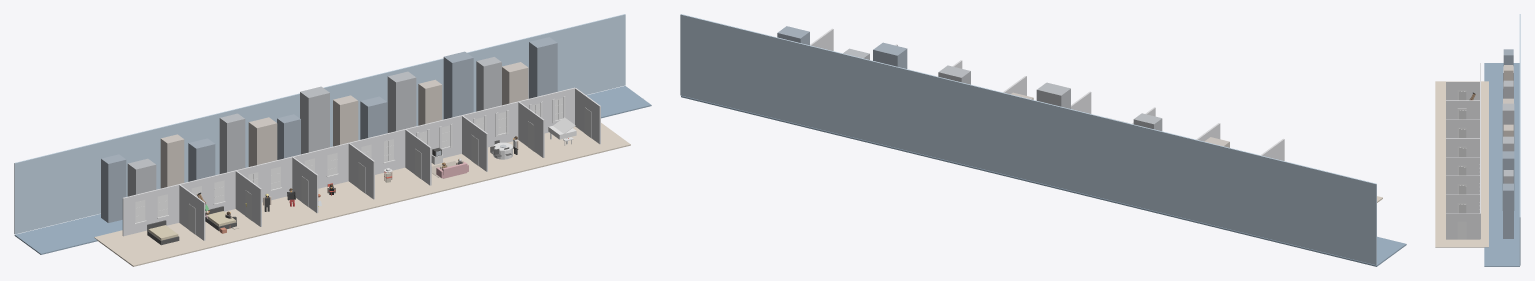
3 views of the same model, side by side, from view 1: azimuth 30°, elevation 25°; view 2: azimuth 150°, elevation 25°; view 3: azimuth 270°, elevation 25° (orthographic). The views are drawn at different scales.
Parts seen in each view (by area): view 1: Skyline_Sky, Apartment_Floor, Skyline_Water, Skyline_Tower_12, Skyline_Tower_7, Skyline_Tower_10, Skyline_Tower_15, Skyline_Tower_0, Skyline_Tower_4, Skyline_Tower_5, Skyline_Tower_13, Skyline_Tower_2 (+41 smaller); view 2: Skyline_Sky, Skyline_Water, Skyline_Tower_12, Skyline_Tower_7, Skyline_Tower_10, Skyline_Tower_15; view 3: Skyline_Water, Apartment_Floor, Skyline_Tower_15, Skyline_Sky, Partition_7_Back, Skyline_Tower_7, Skyline_Tower_12, Partition_7_Front, Partition_1_Back, Partition_5_Back, Partition_6_Back, Partition_2_Back (+34 smaller).
Boxes of the visible parts, x1,y1,x2,y2 form: Skyline_Sky: (14,14,625,234); Apartment_Floor: (94,123,630,266); Skyline_Water: (14,86,651,254); Skyline_Tower_12: (443,51,473,119); Skyline_Tower_7: (300,86,329,154); Skyline_Tower_10: (387,71,416,132); Skyline_Tower_15: (529,37,557,98); Skyline_Tower_0: (101,154,126,222); Skyline_Tower_4: (219,113,245,173); Skyline_Tower_5: (248,117,277,166); Skyline_Tower_13: (476,57,501,111); Skyline_Tower_2: (160,134,184,188); Skyline_Sky: (680,14,1376,265); Skyline_Water: (681,95,1406,266); Skyline_Tower_12: (873,42,907,68); Skyline_Tower_7: (1036,82,1070,108); Skyline_Tower_10: (938,65,970,84); Skyline_Tower_15: (777,26,809,45); Skyline_Water: (1484,63,1519,266); Apartment_Floor: (1435,81,1488,247); Skyline_Tower_15: (1503,183,1513,238); Skyline_Sky: (1519,14,1520,265); Partition_7_Back: (1466,213,1479,239); Skyline_Tower_7: (1502,103,1514,150); Skyline_Tower_12: (1502,151,1514,210); Partition_7_Front: (1446,213,1457,239); Partition_1_Back: (1466,100,1479,119); Partition_5_Back: (1466,175,1479,194); Partition_6_Back: (1466,194,1479,213); Partition_2_Back: (1466,119,1479,137).
Bounding box in the file's own units: 54 × 7.22 × 9.55.
